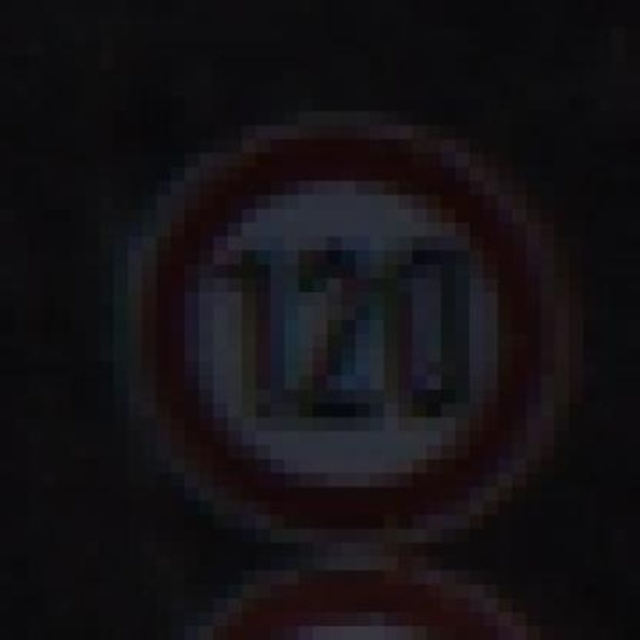Tốc độ tối đa cho phép 120km/h: (139, 124, 555, 547)
